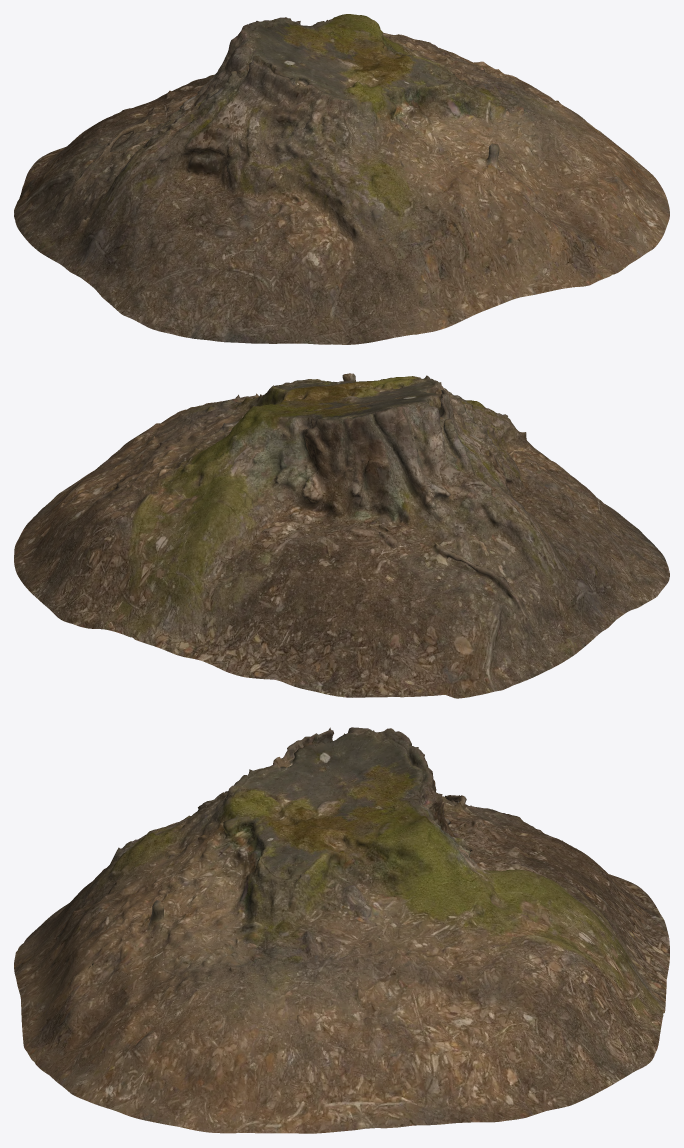
File: stump2.glb
The picture shows the model from 3 angles, top to bottom: view 1: azimuth 30°, elevation 25°; view 2: azimuth 150°, elevation 25°; view 3: azimuth 270°, elevation 25°; orthographic projection. The views are drawn at different scales.
Visible parts, largest first — view 1: tree_stump_02; view 2: tree_stump_02; view 3: tree_stump_02.
Boxes of the visible parts, x1,y1,x2,y2 form: tree_stump_02: (14, 14, 669, 344); tree_stump_02: (14, 373, 669, 698); tree_stump_02: (14, 727, 669, 1133).
Size of the model in its own units: 1.52 by 0.5221 by 1.39.
1 material, 1 textured.
